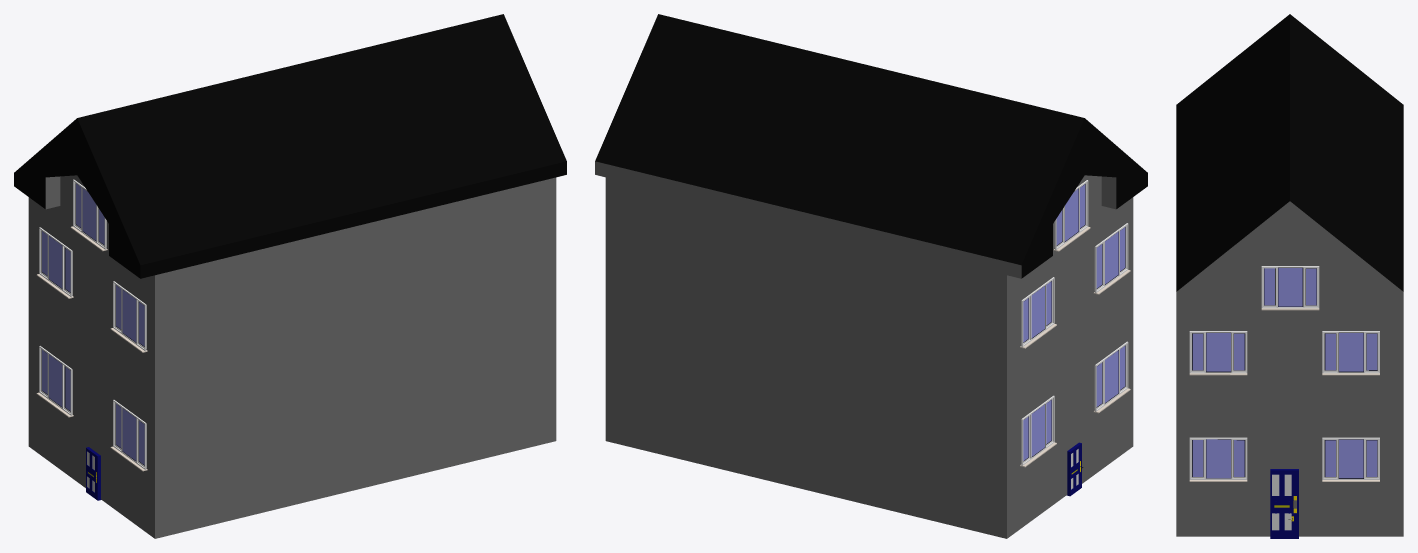
Rendered from IndividualHouse.fbx.
3 views of the same model, side by side, from view 1: azimuth 30°, elevation 25°; view 2: azimuth 150°, elevation 25°; view 3: azimuth 270°, elevation 25° (orthographic). The views are drawn at different scales.
Parts seen in each view (by area): view 1: TerracedHouses.002; view 2: TerracedHouses.002; view 3: TerracedHouses.002.
Part boxes in pixels (x1,y1,x2,y2): TerracedHouses.002: [14, 14, 566, 538]; TerracedHouses.002: [595, 14, 1147, 538]; TerracedHouses.002: [1176, 14, 1403, 538].
Size of the model in its own units: 1169 by 994 by 600.
